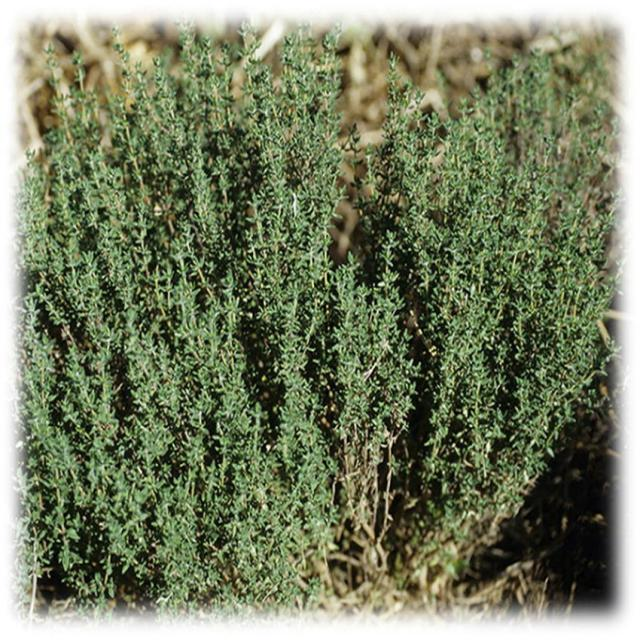Thyme: (19, 29, 614, 603)
